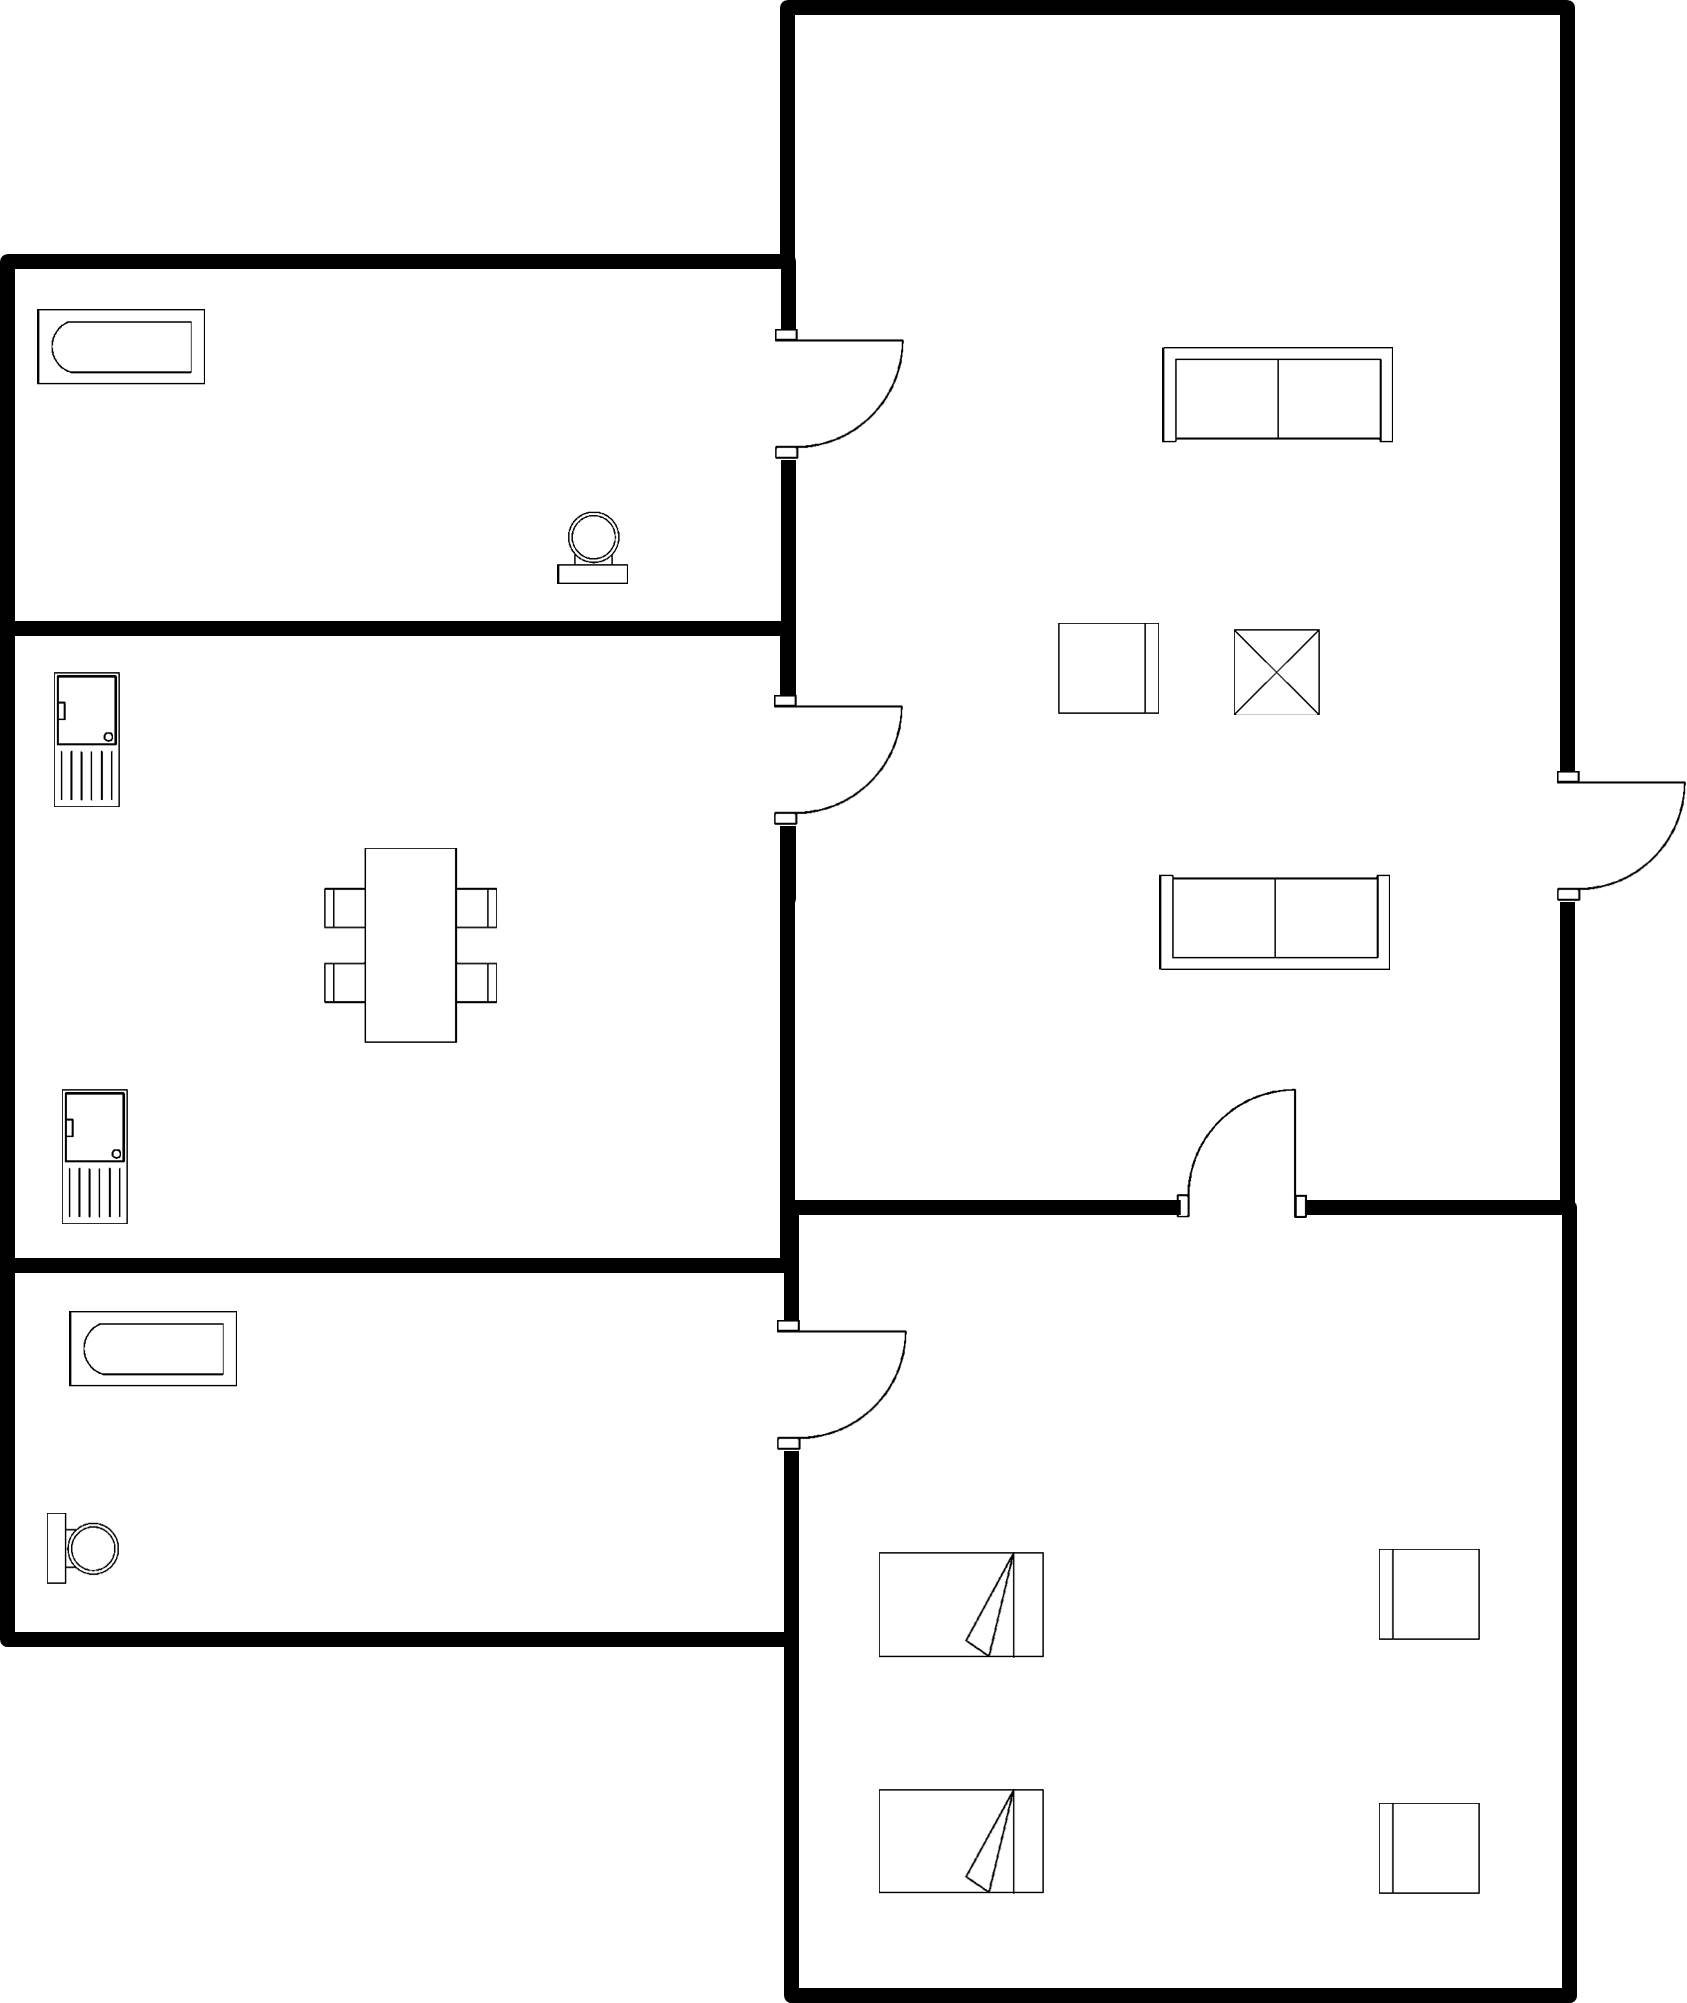bed: (866, 1538, 1058, 1671), (866, 1775, 1056, 1907)
coffee_table: (1221, 618, 1336, 726)
dining_table: (297, 830, 511, 1060)
large_sink: (33, 1501, 123, 1603)
large_sofa: (1152, 326, 1413, 458), (1146, 864, 1403, 983), (540, 493, 638, 597)
sink: (44, 656, 131, 828), (48, 1077, 140, 1236)
small_sofa: (1366, 1785, 1493, 1914), (1364, 1534, 1495, 1658), (1048, 609, 1174, 732)
tub: (25, 295, 219, 401), (54, 1301, 248, 1401)
